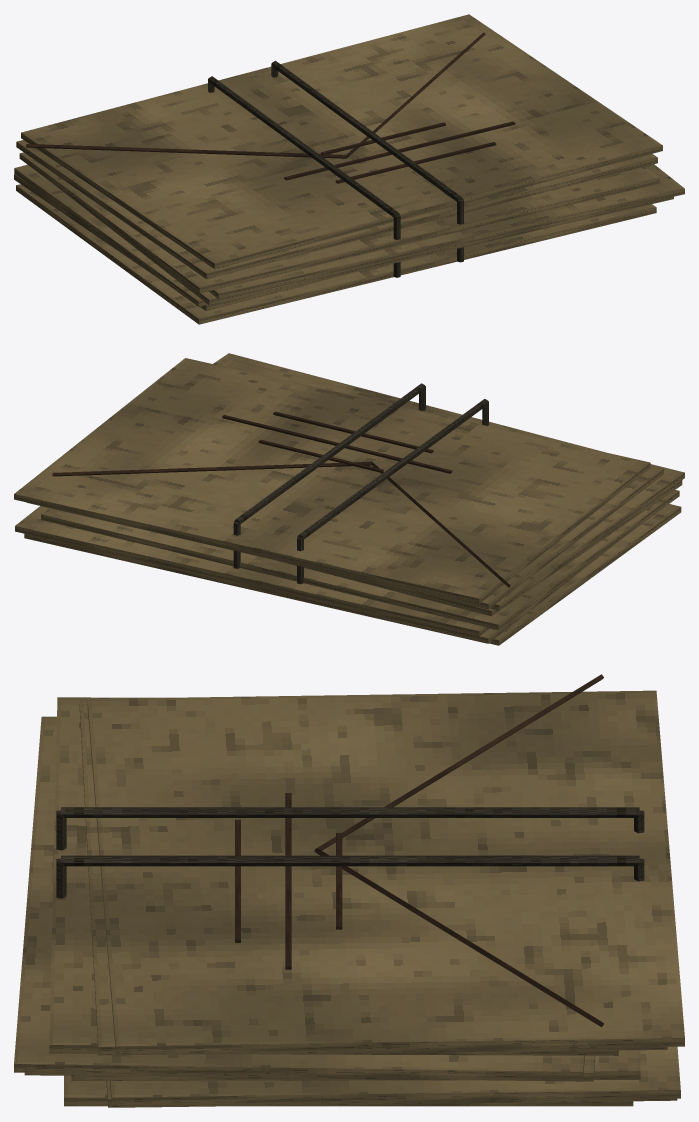
The model's file is level_story_letters_worn.glb.
3 renders of one model, top to bottom at view 1: azimuth 30°, elevation 25°; view 2: azimuth 150°, elevation 25°; view 3: azimuth 270°, elevation 25°, orthographic. The views are drawn at different scales.
Visible parts, largest first — view 1: level_story_letters_worn; view 2: level_story_letters_worn; view 3: level_story_letters_worn.
Part boxes in pixels (bbox=[...]): level_story_letters_worn: bbox=[14, 14, 684, 324]; level_story_letters_worn: bbox=[14, 353, 684, 645]; level_story_letters_worn: bbox=[14, 674, 684, 1107].
Size of the model in its own units: 0.2739 by 0.0352 by 0.2121.
3 materials, 3 textured.
